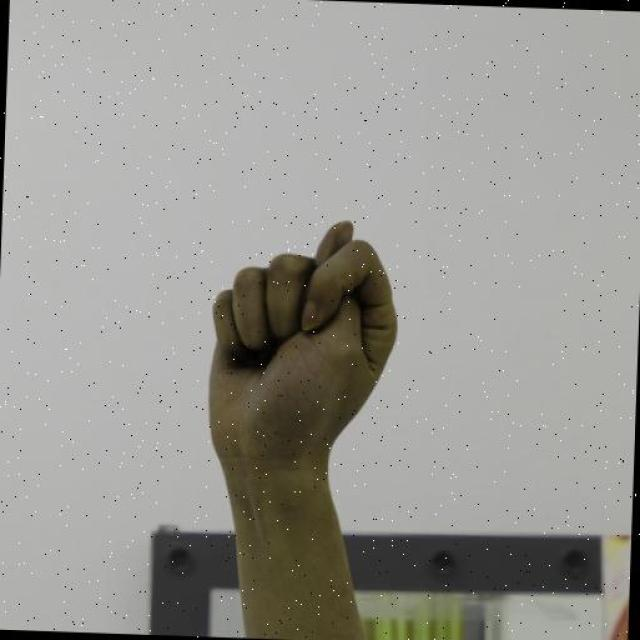T: (198, 212, 412, 467)
